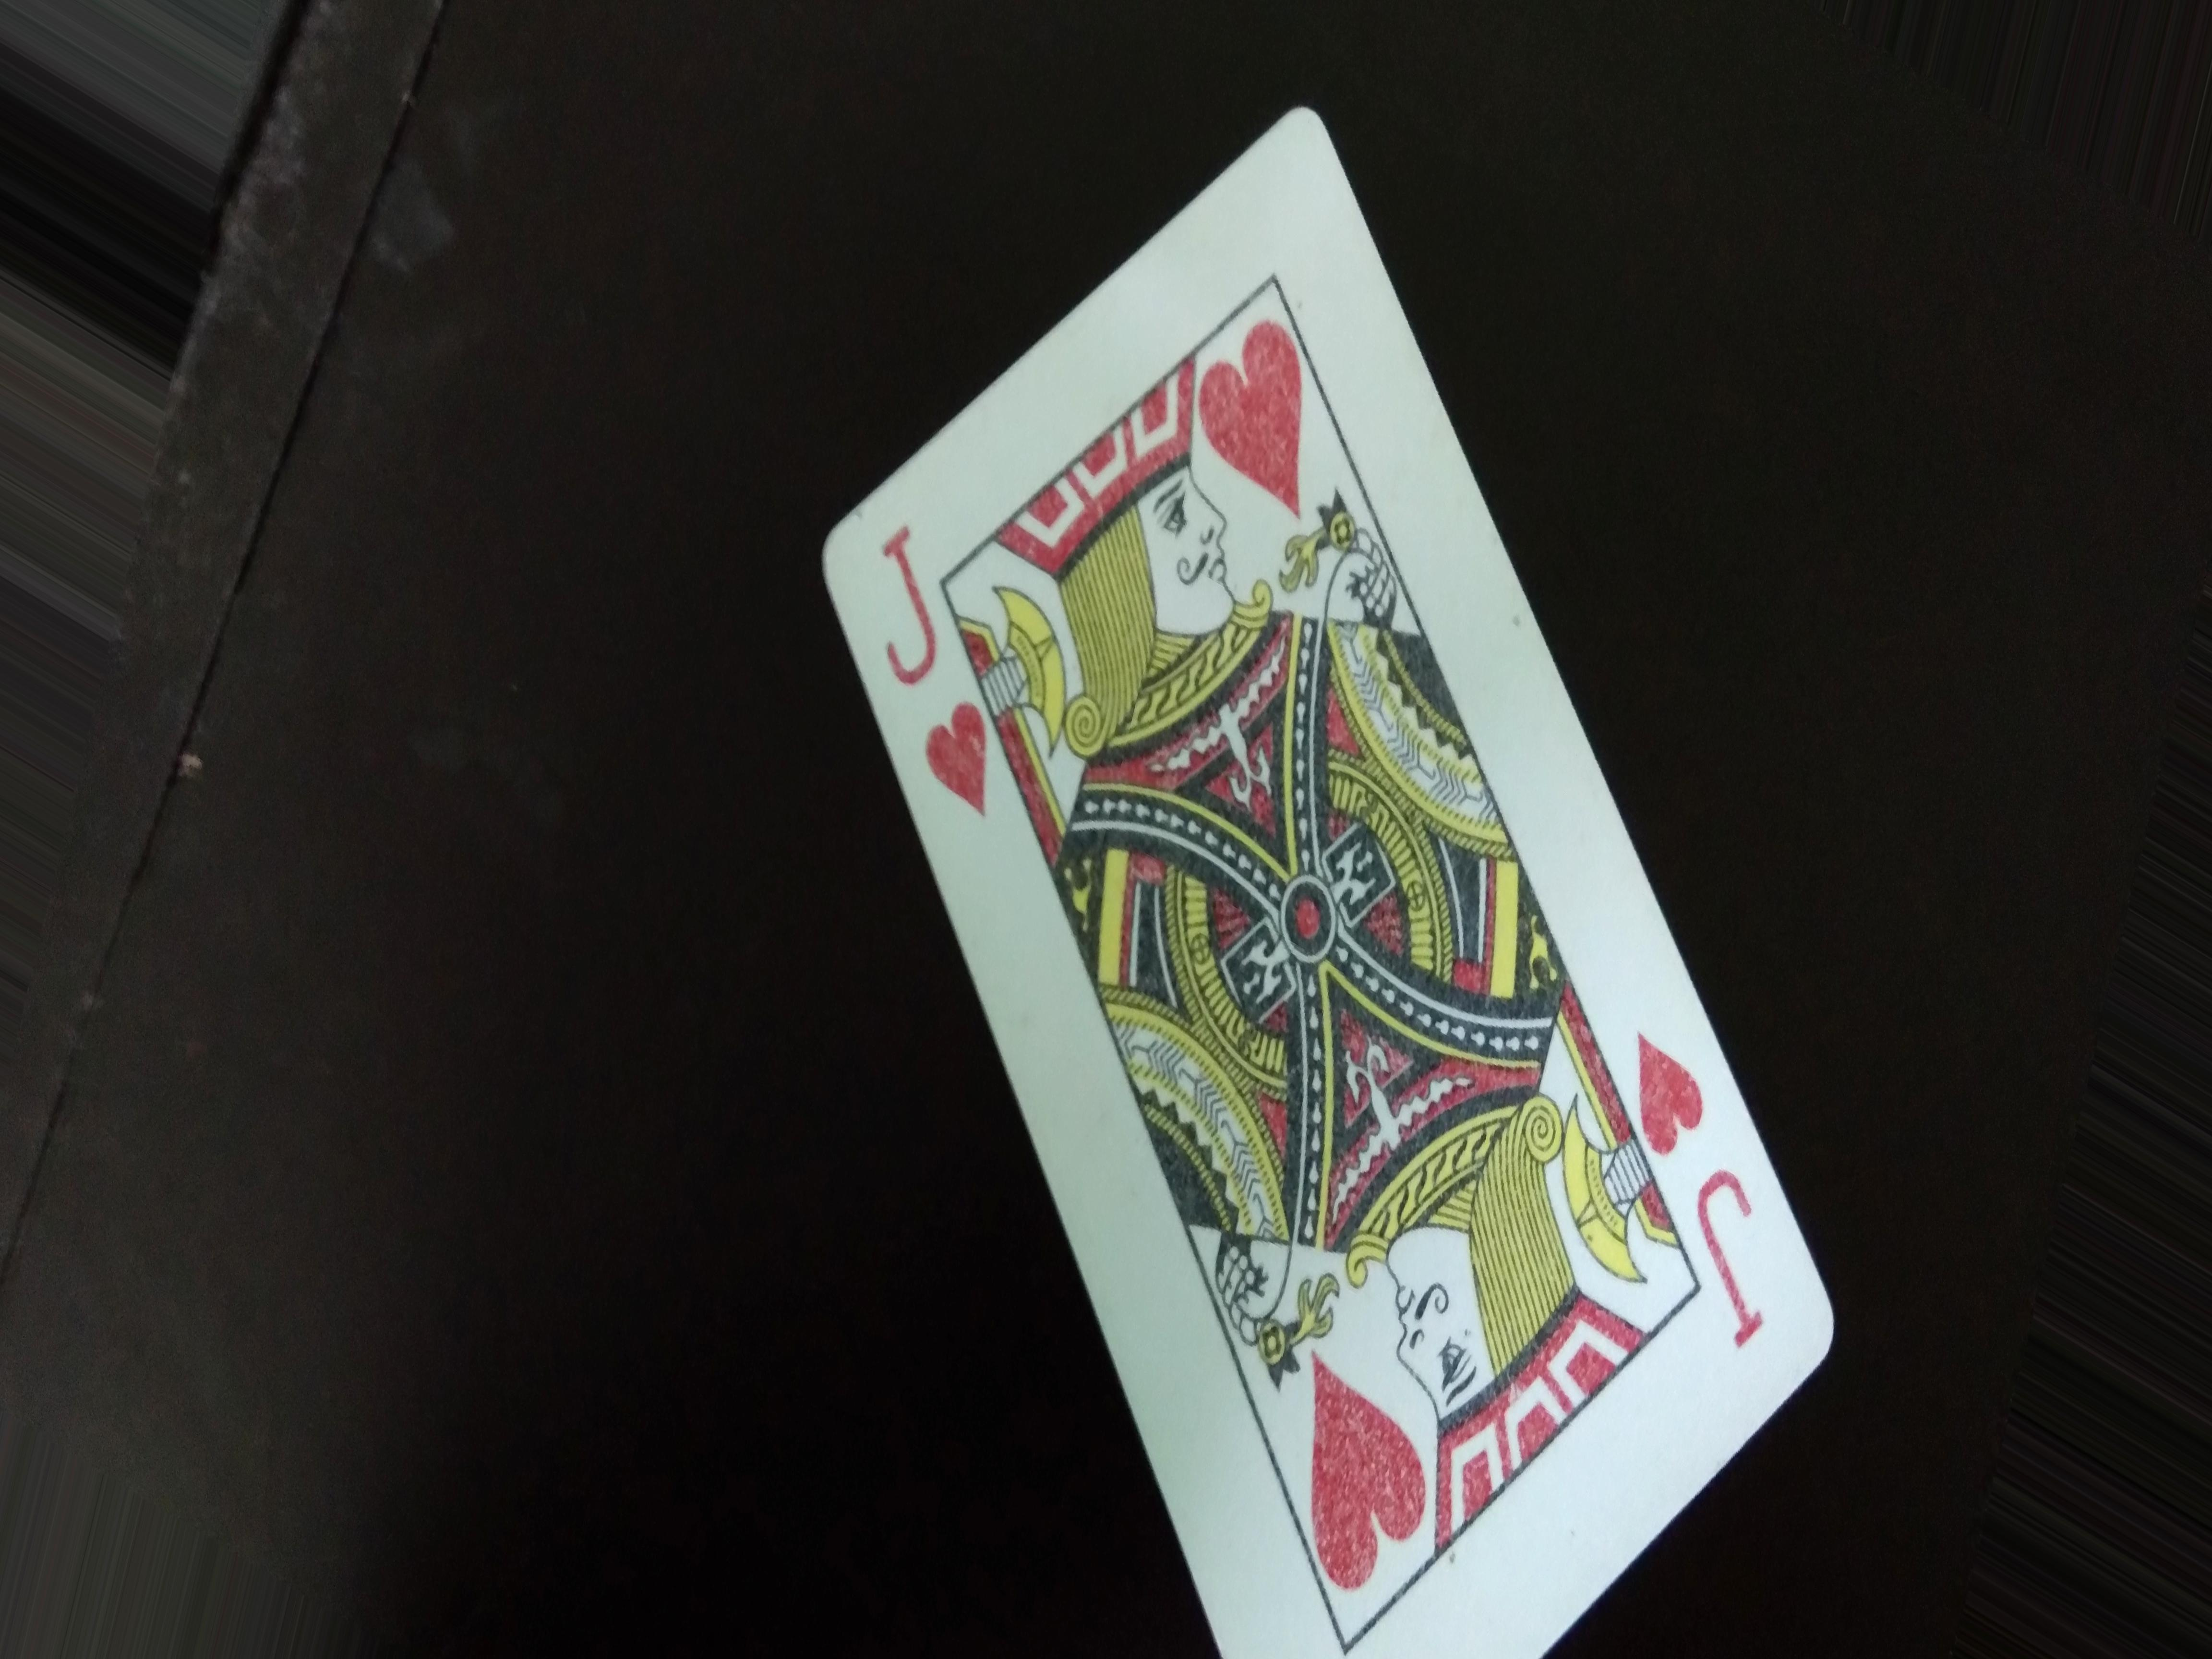JH: (873, 518, 1000, 833)
